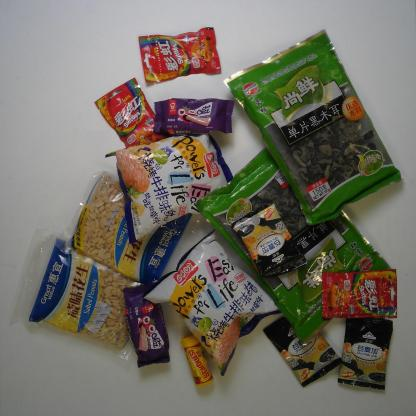Candy: (93, 76, 168, 154), (316, 262, 402, 326), (135, 20, 225, 81), (182, 328, 212, 386)
Dessert: (120, 282, 177, 366), (148, 90, 240, 139)
Dried Food: (201, 140, 391, 340), (223, 28, 406, 226)
Dried Fruit: (14, 228, 149, 353), (64, 167, 197, 290)
Instant Drink: (262, 306, 341, 386), (229, 199, 310, 277), (335, 310, 395, 390)
Puffed Food: (154, 232, 279, 373), (105, 133, 238, 239)
